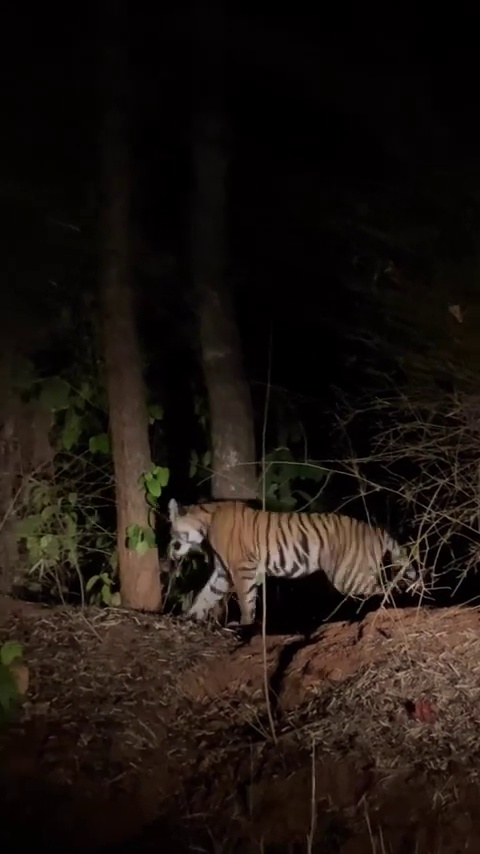Tiger: (166, 497, 420, 626)
